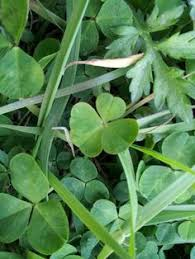4-clover: (69, 93, 137, 156)
